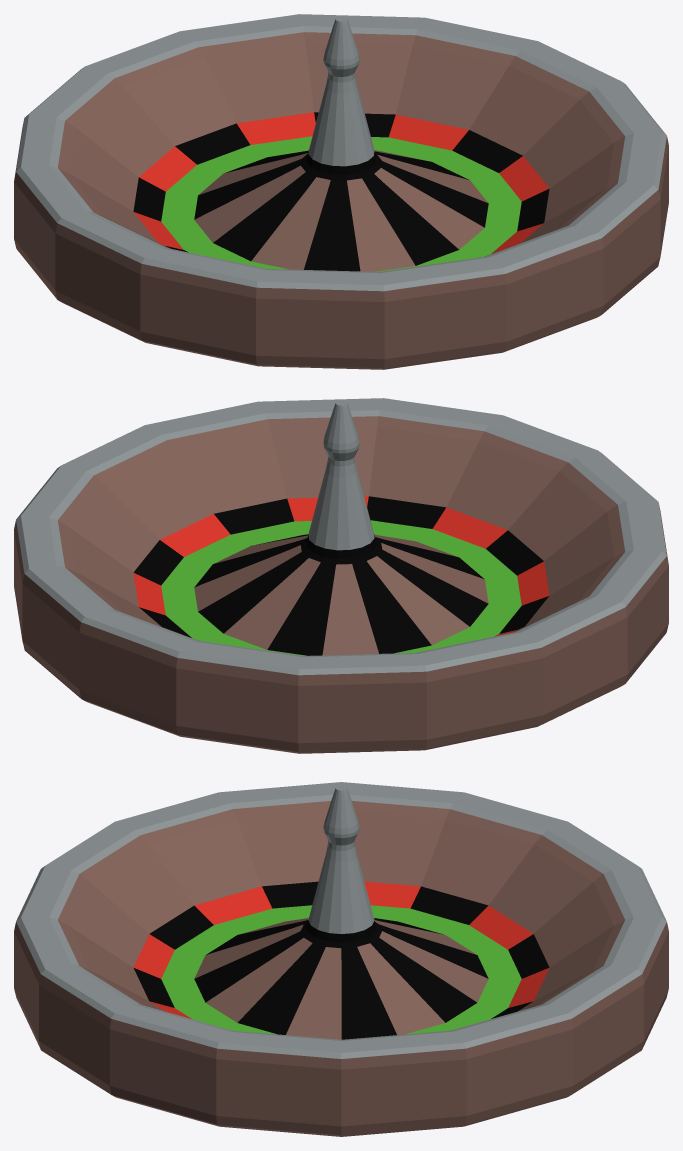
The model's file is goal.fbx.
The picture shows the model from 3 angles, top to bottom: view 1: azimuth 30°, elevation 25°; view 2: azimuth 150°, elevation 25°; view 3: azimuth 270°, elevation 25°; orthographic projection.
Parts seen in each view (by area): view 1: Cylinder; view 2: Cylinder; view 3: Cylinder.
Boxes of the visible parts, bbox=[...] form: Cylinder: bbox=[14, 14, 668, 369]; Cylinder: bbox=[14, 398, 668, 753]; Cylinder: bbox=[14, 782, 668, 1136].
Bounding box in the file's own units: 200 × 72.07 × 200.
